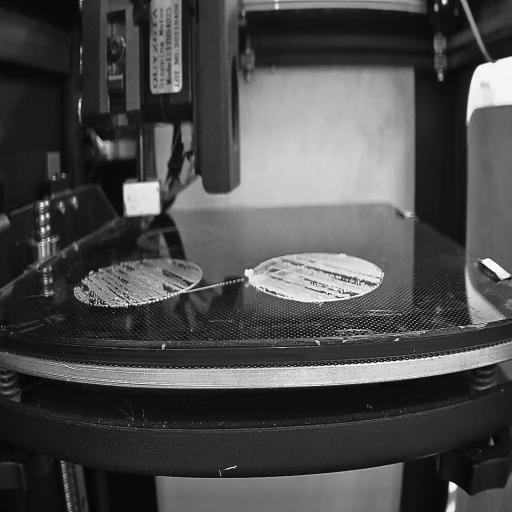under_extrusion: (74, 261, 200, 302), (260, 256, 381, 296)
